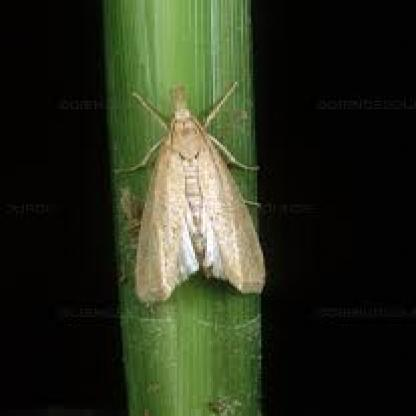stem-borer: (126, 81, 254, 300)
